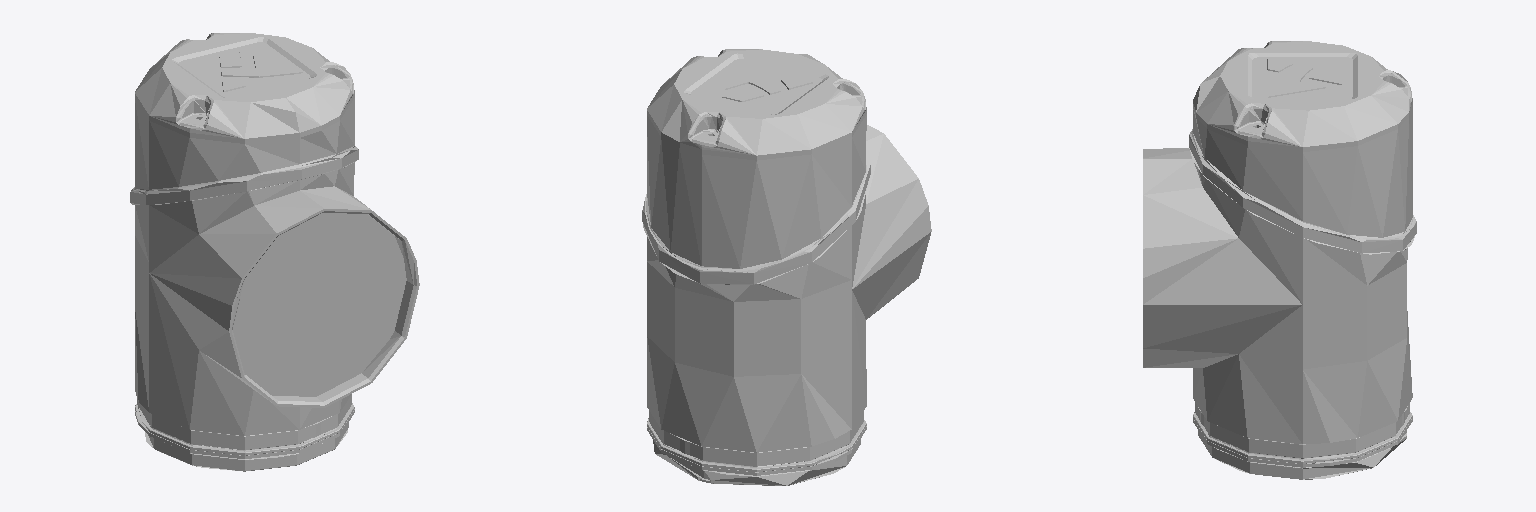
File: ARM5.obj
The picture shows the model from 3 angles: view 1: azimuth 30°, elevation 25°; view 2: azimuth 150°, elevation 25°; view 3: azimuth 270°, elevation 25°; orthographic projection.
Parts seen in each view (by area): view 1: GBT-C7A-J4.001; view 2: GBT-C7A-J4.001; view 3: GBT-C7A-J4.001.
Part boxes in pixels (left/top/right/bottom): GBT-C7A-J4.001: left=130, top=33, right=419, bottom=471; GBT-C7A-J4.001: left=642, top=49, right=931, bottom=485; GBT-C7A-J4.001: left=1143, top=41, right=1416, bottom=479.
Bounding box in the file's own units: 83 × 144 × 99.5.